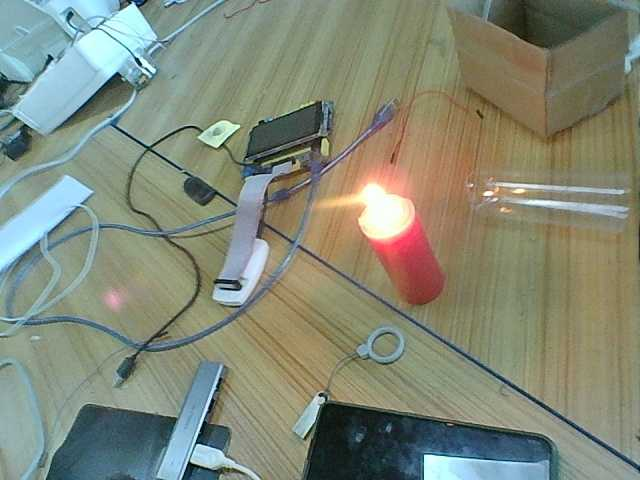candle: (370, 230, 448, 306)
fire: (348, 183, 410, 227)
